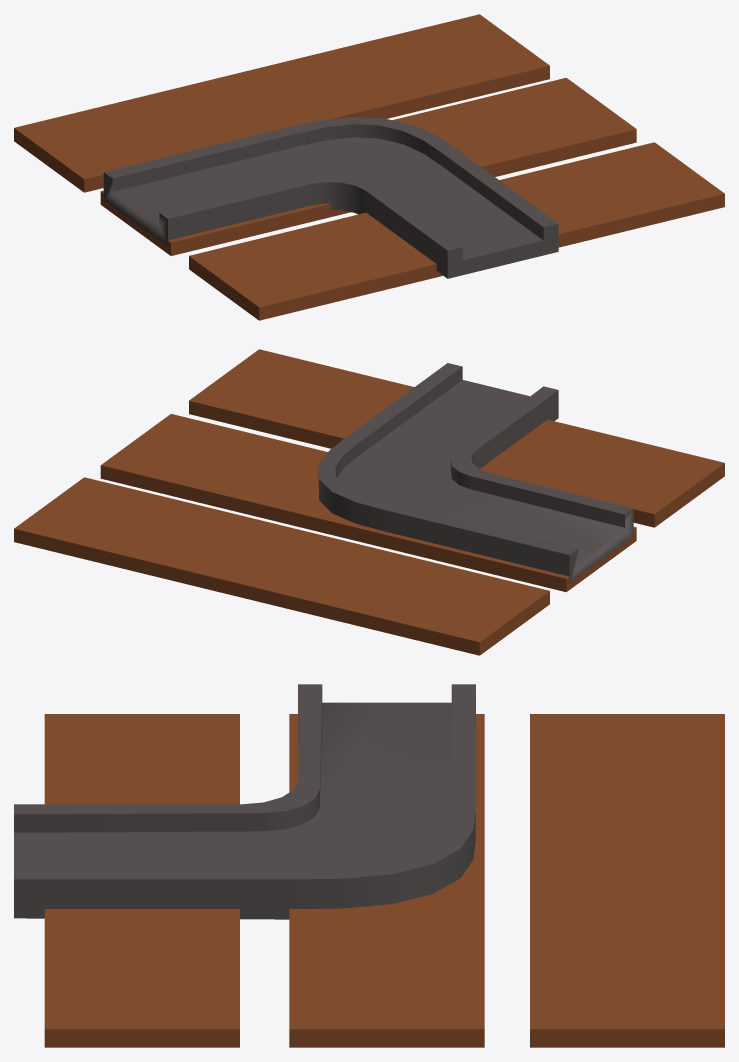
File: Rail_1.fbx
The picture shows the model from 3 angles, top to bottom: view 1: azimuth 30°, elevation 25°; view 2: azimuth 150°, elevation 25°; view 3: azimuth 270°, elevation 25°; orthographic projection. The views are drawn at different scales.
Visible parts, largest first — view 1: Road_1, woodbar_13, woodbar_12, woodbar_14; view 2: woodbar_13, Road_1, woodbar_12, woodbar_14; view 3: Road_1, woodbar_13, woodbar_12, woodbar_14.
Part boxes in pixels (<box>): Road_1: <box>103,117,558,278</box>; woodbar_13: <box>14,14,549,192</box>; woodbar_12: <box>189,142,724,320</box>; woodbar_14: <box>100,77,636,255</box>; woodbar_13: <box>14,477,549,655</box>; Road_1: <box>318,363,633,582</box>; woodbar_12: <box>189,349,724,527</box>; woodbar_14: <box>100,414,636,592</box>; Road_1: <box>14,684,475,919</box>; woodbar_13: <box>530,714,724,1047</box>; woodbar_12: <box>44,714,239,1047</box>; woodbar_14: <box>289,714,484,1047</box>.
Bounding box in the file's own units: 100 × 7.15 × 95.31.
Materials: 1 (1 with a texture image).
